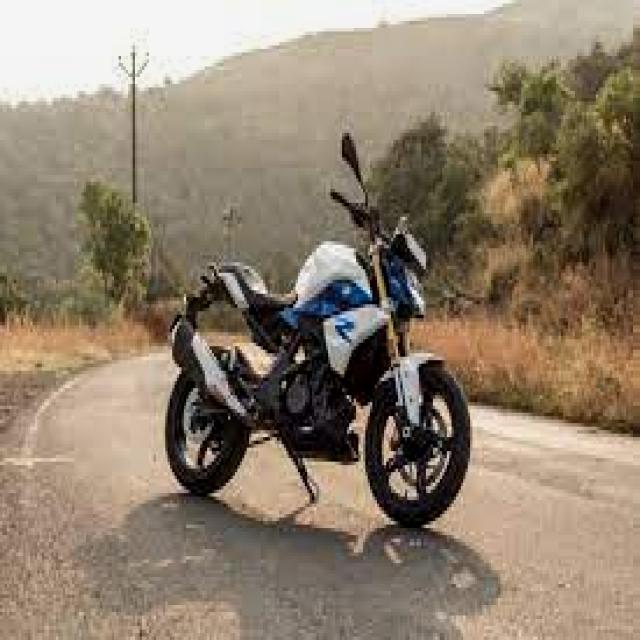MOTORCYCLE: (163, 238, 467, 532)
